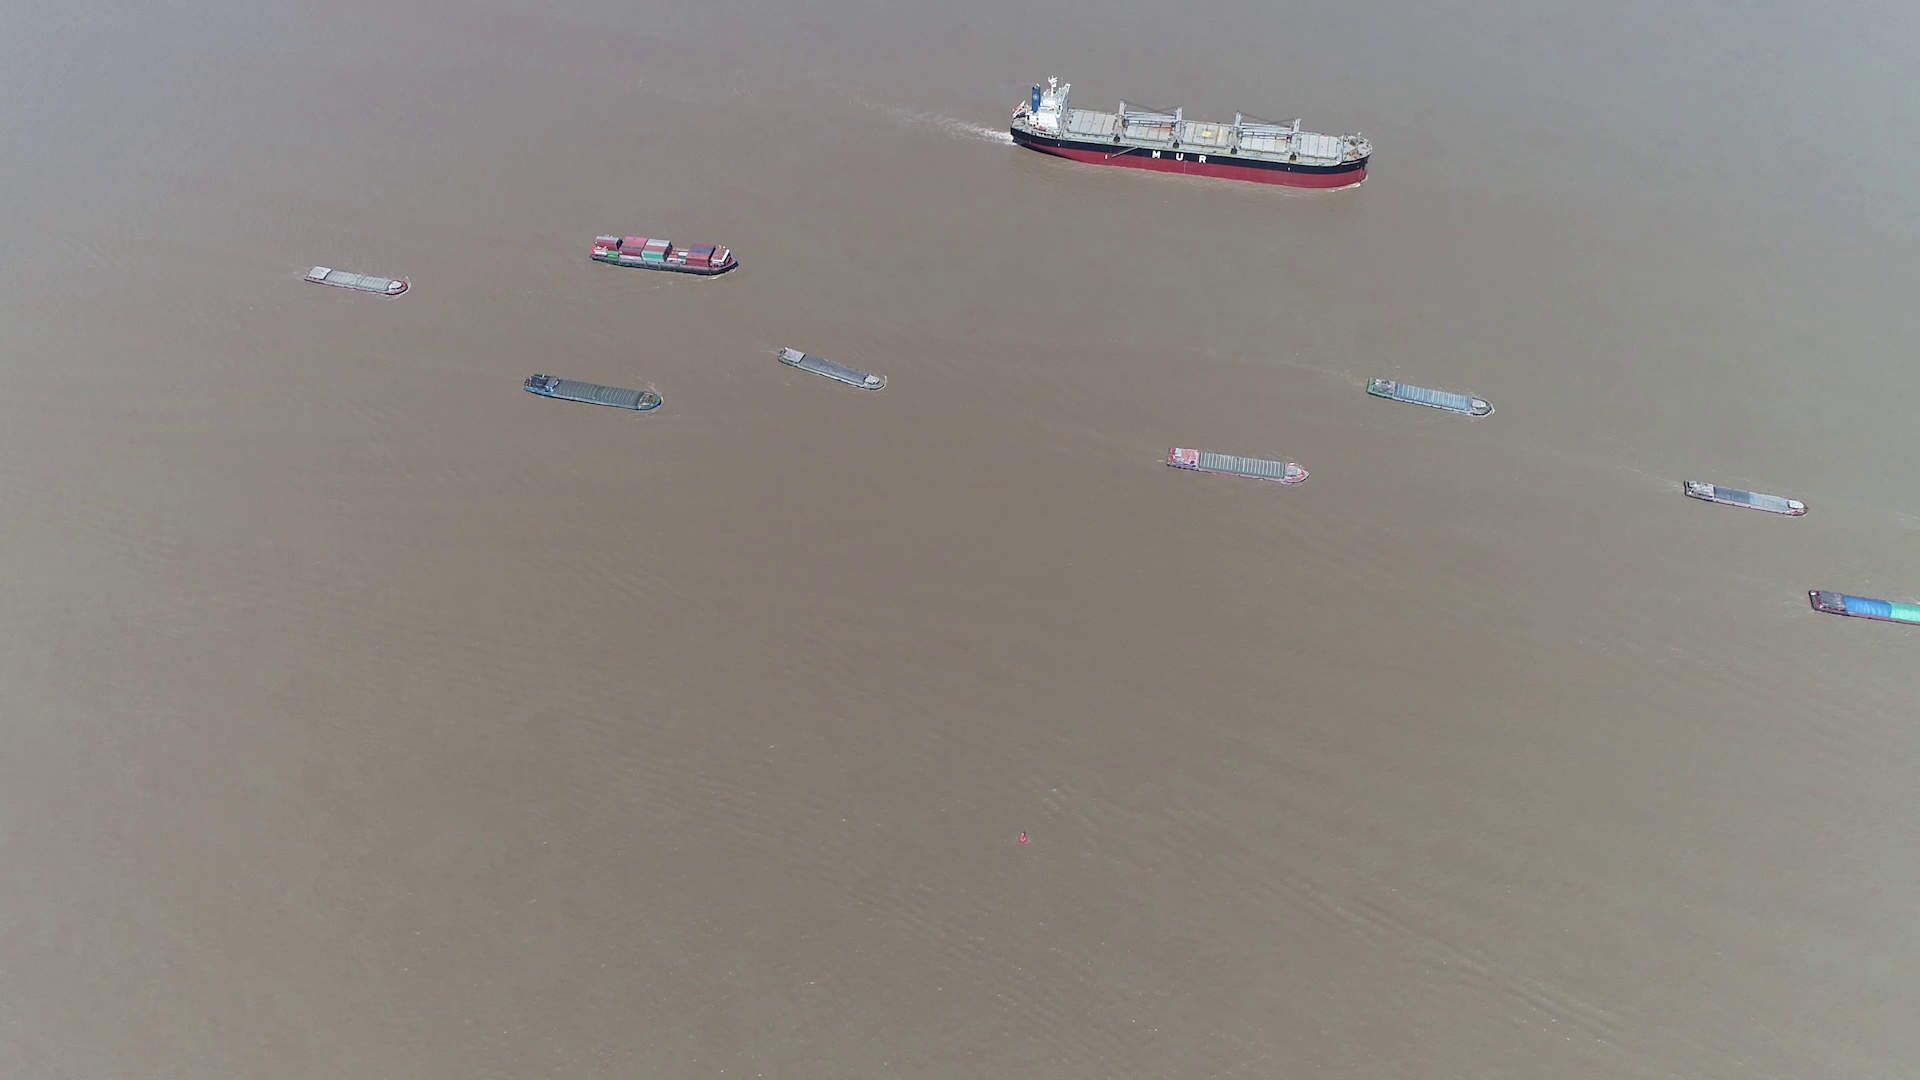ship: (1011, 80, 1367, 185), (588, 232, 740, 273), (1163, 444, 1309, 487), (1366, 375, 1493, 419), (522, 375, 665, 414), (1680, 477, 1808, 517), (775, 348, 887, 393), (1809, 588, 1920, 626), (302, 264, 409, 295)
